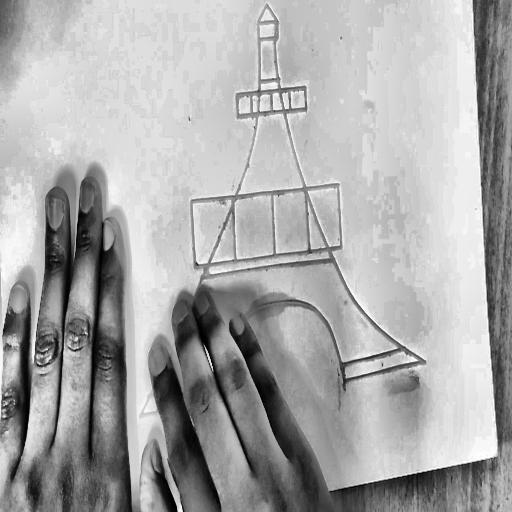bottom_right: (491, 445, 503, 463)
eiffel-tower: (111, 0, 435, 433)
